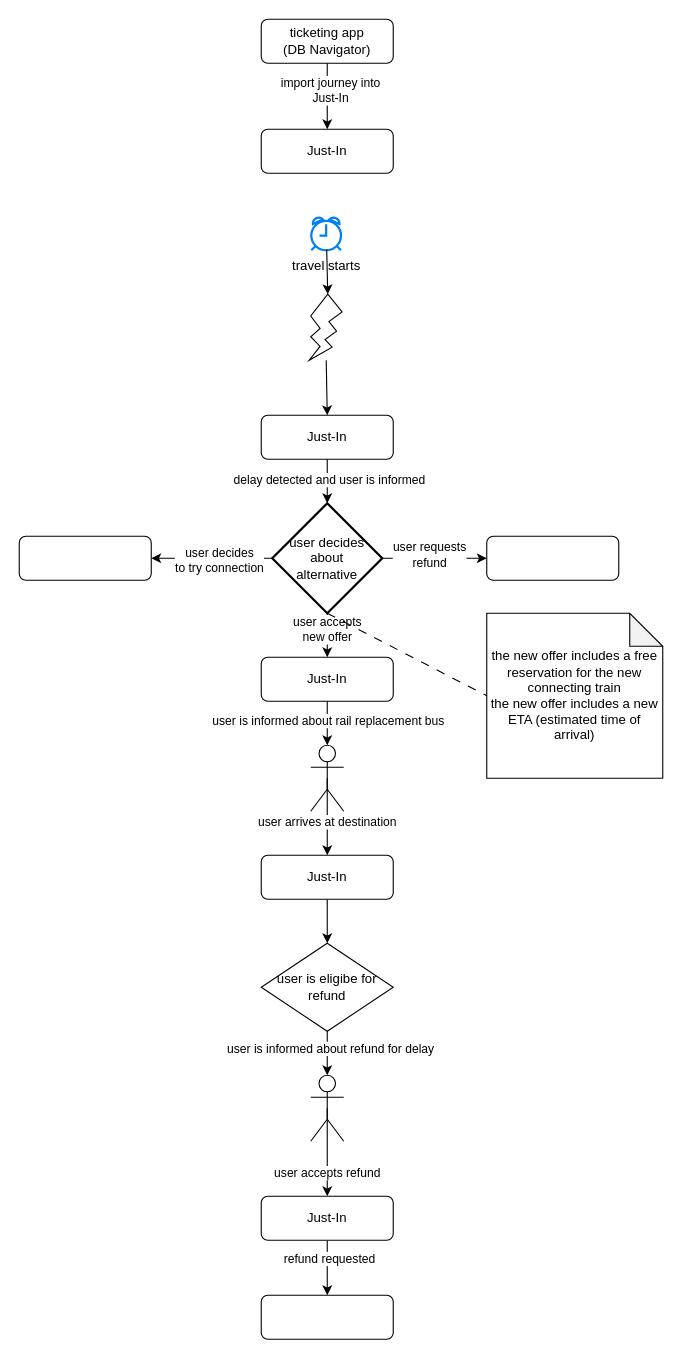
Image size: 682x1359. Some labels were removed from this diagram. Each missing label, with the centre of its shape:
"Actor" goes at (327,1107).
"refund" goes at (552,557).
"refund system" goes at (326,1316).
"train is delayed" goes at (325,326).
"user chases connecting train" goes at (84,557).
